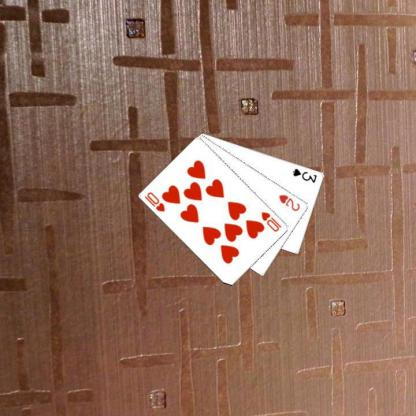10H: (259, 209, 283, 233), (142, 190, 167, 213)
2H: (276, 192, 302, 212)
3S: (290, 166, 318, 184)
